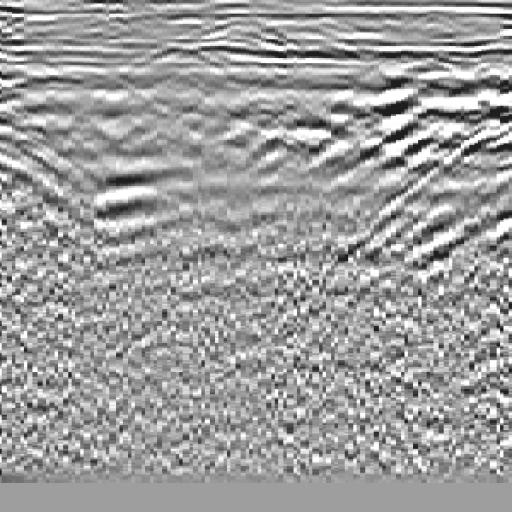metalic: (64, 133, 231, 276)
nonmetalic: (354, 56, 512, 287)
